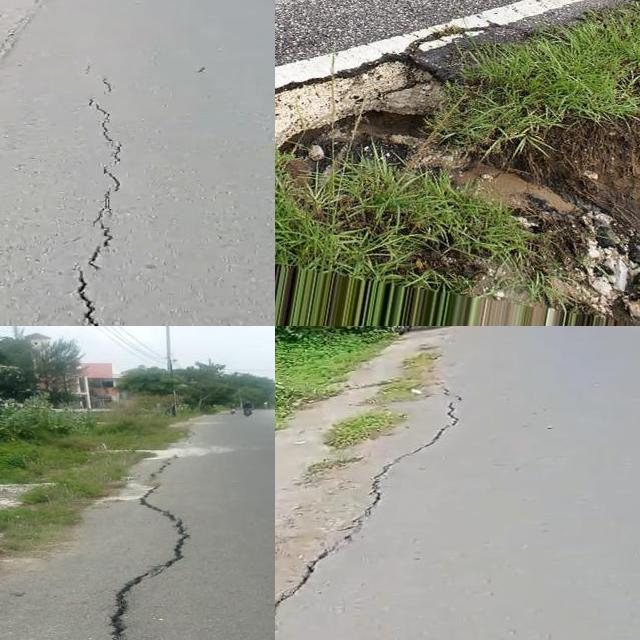Memanjang: (275, 374, 467, 640), (61, 72, 133, 326), (103, 454, 199, 640)
Pinggir: (275, 23, 574, 187)
